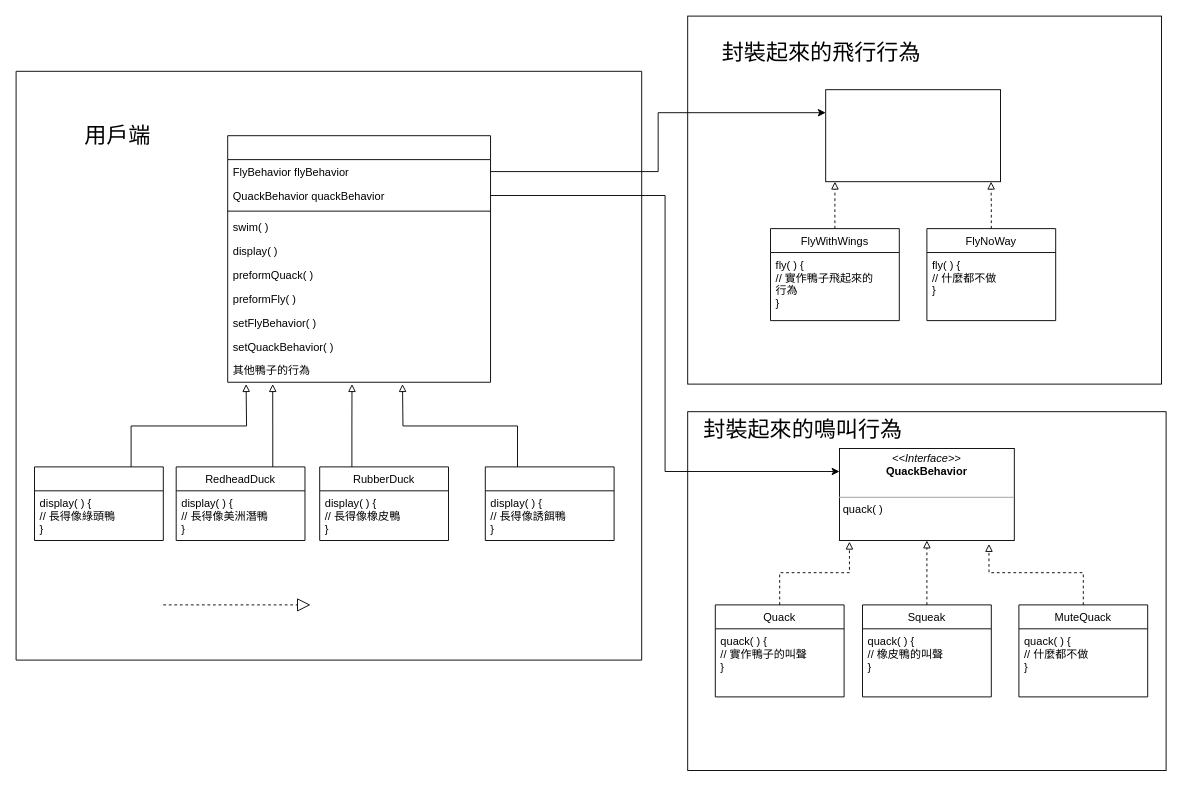
Some shapes in this 1182 by 787 pixel diagram are drawn without their labels. Each missing label, with the box of its shape:
<<Interface>> FlyBehavior fly( ): (825, 89, 1000, 182)
DecoyDuck: (484, 466, 614, 540)
Duck: (227, 135, 491, 382)
MallarDuck: (34, 466, 163, 540)
